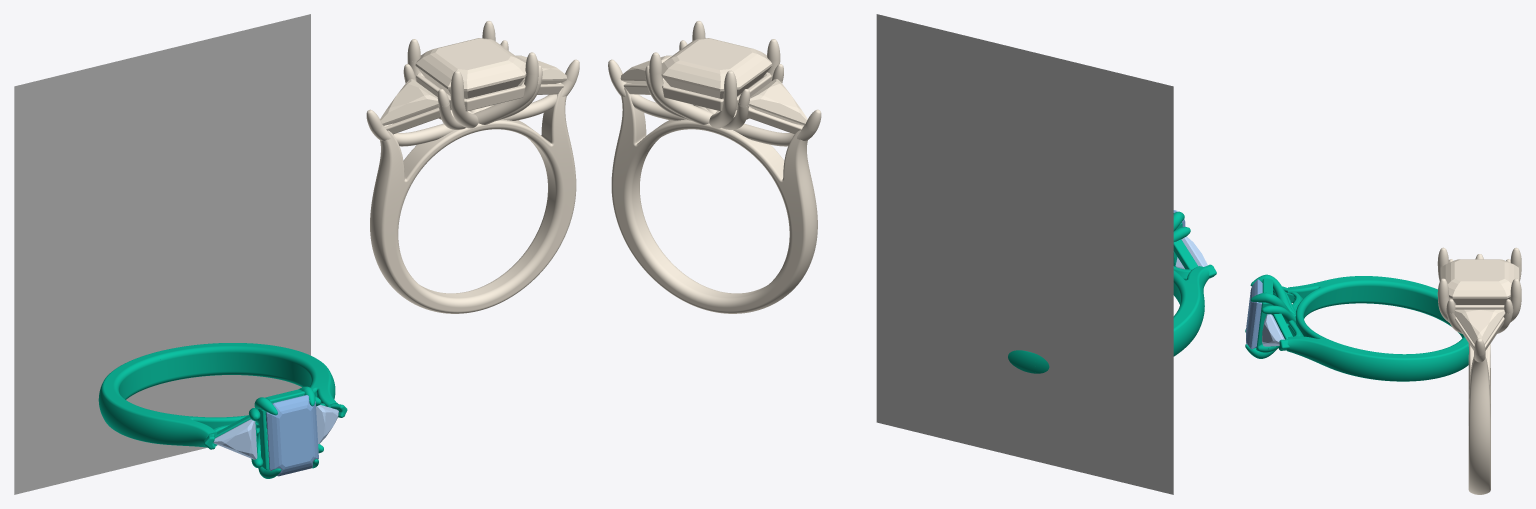
3 views of the same model, side by side, from view 1: azimuth 30°, elevation 25°; view 2: azimuth 150°, elevation 25°; view 3: azimuth 270°, elevation 25° (orthographic). The views are drawn at different scales.
Parts seen in each view (by area): view 1: TRIRANGLE(base).3dm, Diamond_Emerald Square, Diamond_Emerald, Diamond_Triangle (×2), Bezel (×2); view 2: TRIRANGLE(base).3dm, Diamond_Emerald Square, Diamond_Triangle, Bezel; view 3: TRIRANGLE(base).3dm, Diamond_Emerald Square, Diamond_Triangle (×2), Diamond_Emerald, Bezel (×2).
Boxes of the visible parts, left/top/right/bottom form: TRIRANGLE(base).3dm: left=14, top=14, right=579, bottom=494; Diamond_Emerald Square: left=415, top=38, right=526, bottom=98; Diamond_Emerald: left=266, top=395, right=318, bottom=476; Diamond_Triangle (×2): left=213, top=79, right=438, bottom=459; Bezel (×2): left=258, top=72, right=525, bottom=469; TRIRANGLE(base).3dm: left=608, top=14, right=1216, bottom=494; Diamond_Emerald Square: left=661, top=38, right=772, bottom=98; Diamond_Triangle: left=749, top=79, right=807, bottom=125; Bezel: left=662, top=72, right=771, bottom=111; TRIRANGLE(base).3dm: left=1245, top=247, right=1521, bottom=494; Diamond_Emerald Square: left=1440, top=259, right=1518, bottom=304; Diamond_Triangle (×2): left=1262, top=309, right=1505, bottom=346; Diamond_Emerald: left=1246, top=279, right=1262, bottom=349; Bezel (×2): left=1256, top=278, right=1504, bottom=350.
Size of the model in its own units: 6.93 by 4.79 by 3.48.
